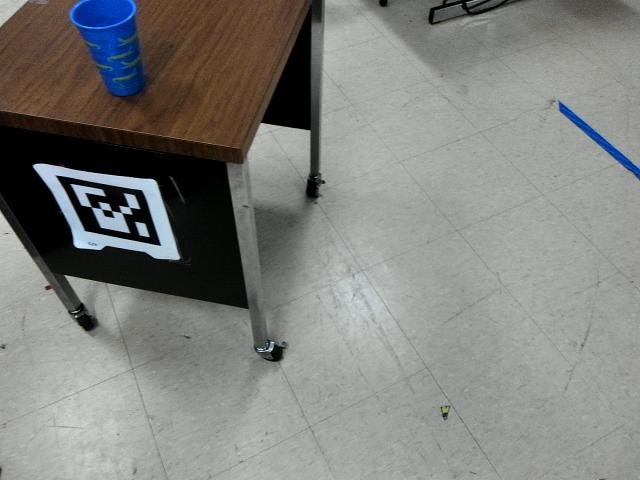water_cup: (71, 1, 154, 102)
